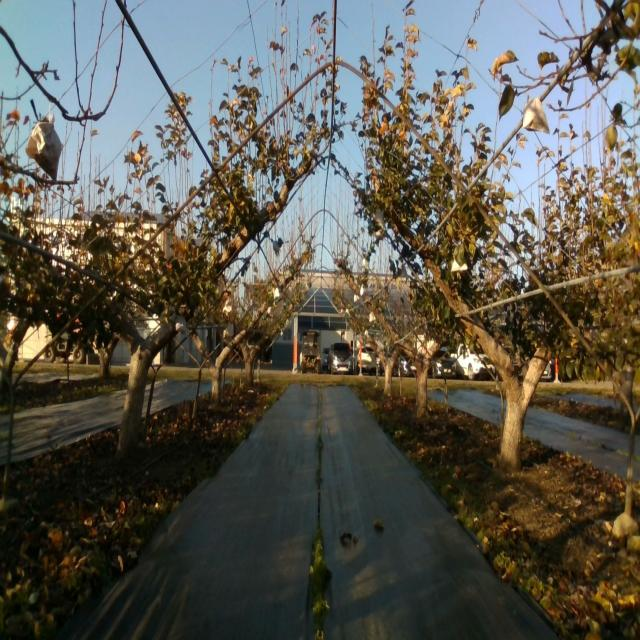pearbags: (26, 113, 62, 182), (522, 95, 550, 134), (372, 207, 385, 231), (175, 314, 187, 334)
